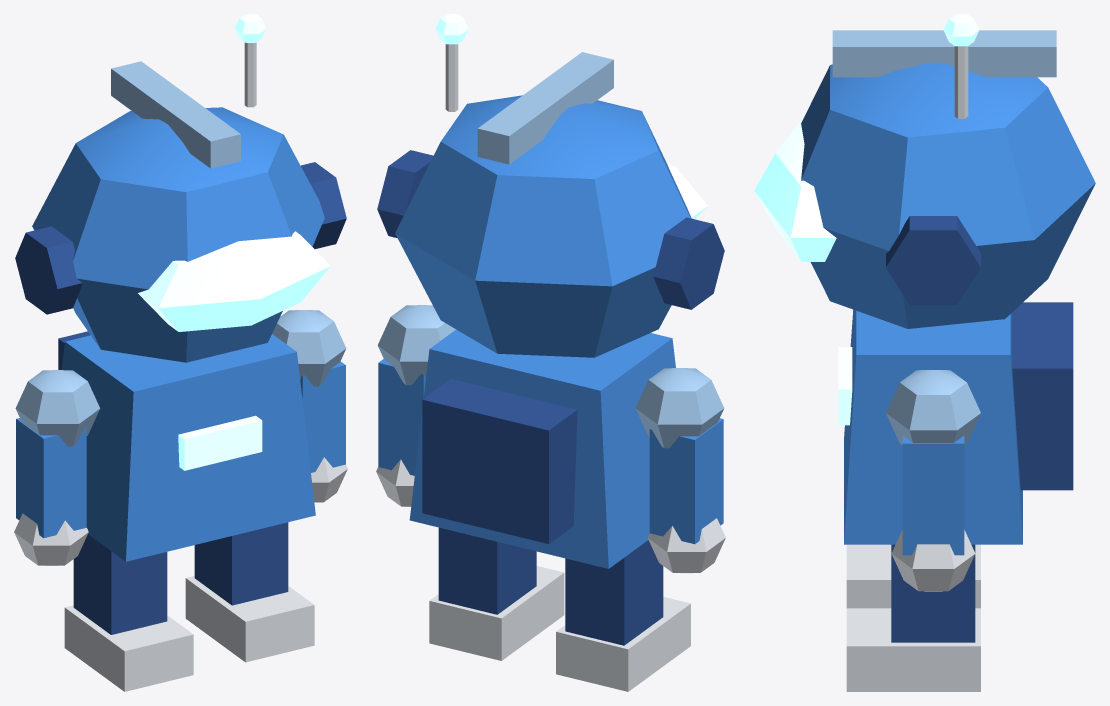
The model's file is blue_bot_lo.glb.
The picture shows the model from 3 angles, left to right: view 1: azimuth 30°, elevation 25°; view 2: azimuth 150°, elevation 25°; view 3: azimuth 270°, elevation 25°; orthographic projection. The views are drawn at different scales.
Visible parts, largest first — view 1: head, torso, legL, armL, legR, armR; view 2: head, torso, armL, legL, legR, armR; view 3: head, torso, armR, legR, legL.
Boxes of the visible parts, x1,y1,x2,y2 form: head: (15,14,346,362); torso: (58,331,315,561); legL: (64,534,193,691); armL: (14,370,100,565); legR: (185,522,314,662); armR: (272,310,347,502); head: (377,14,724,357); torso: (409,329,675,568); armL: (635,368,725,573); legL: (556,540,690,691); legR: (429,527,564,660); armR: (376,305,455,506); head: (754,14,1095,328); torso: (838,302,1073,544); armR: (886,370,980,591); legR: (846,544,980,691); legL: (846,544,980,608).
Size of the model in its own units: 0.7299 by 1.32 by 0.6102.
